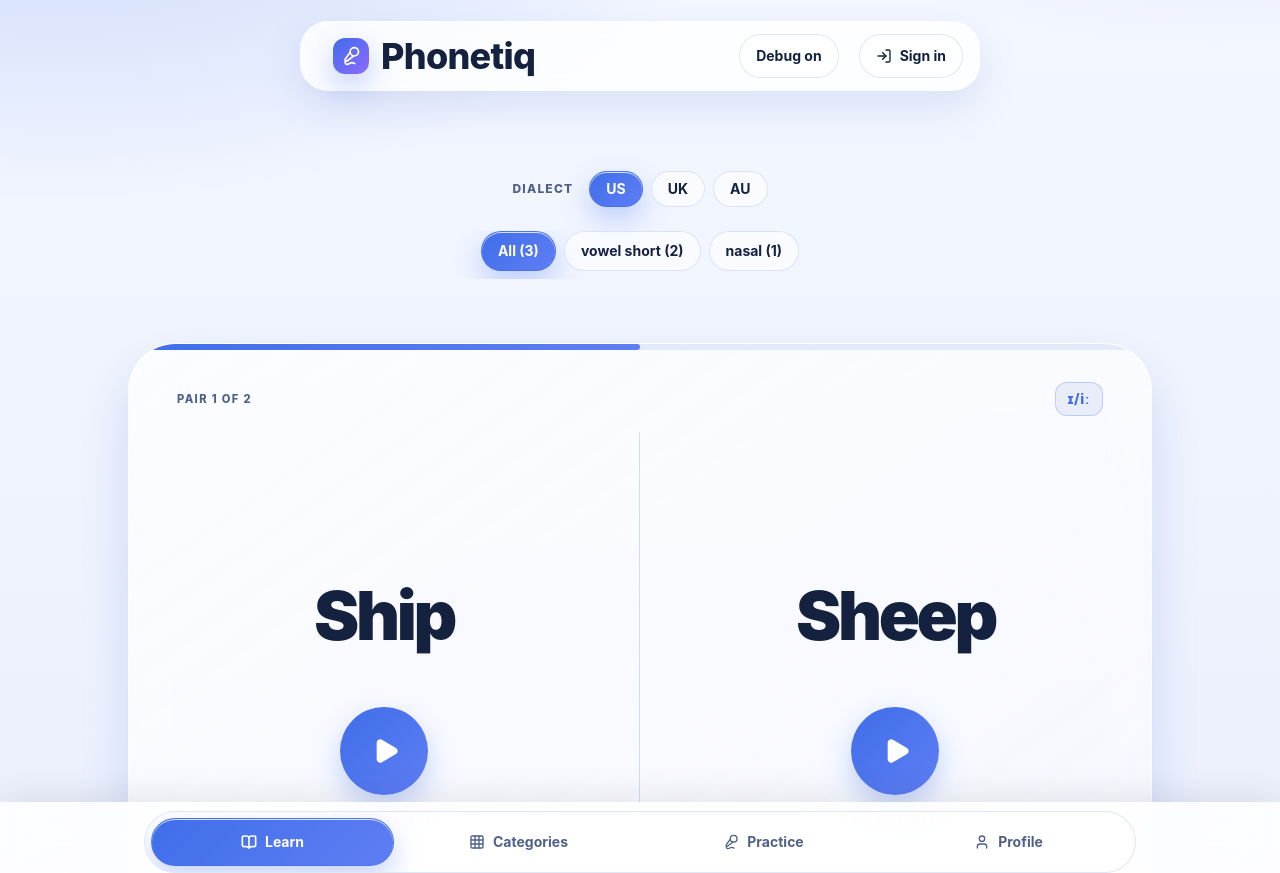
Test: App › shows Learn stage structure by default and swaps it out in Practice mode
Expected: the text "Pair 1 of 2" is shown, [177, 391, 252, 407]
Click the button "Practice": (764, 842) [643, 818, 884, 866]
(page scrolled)
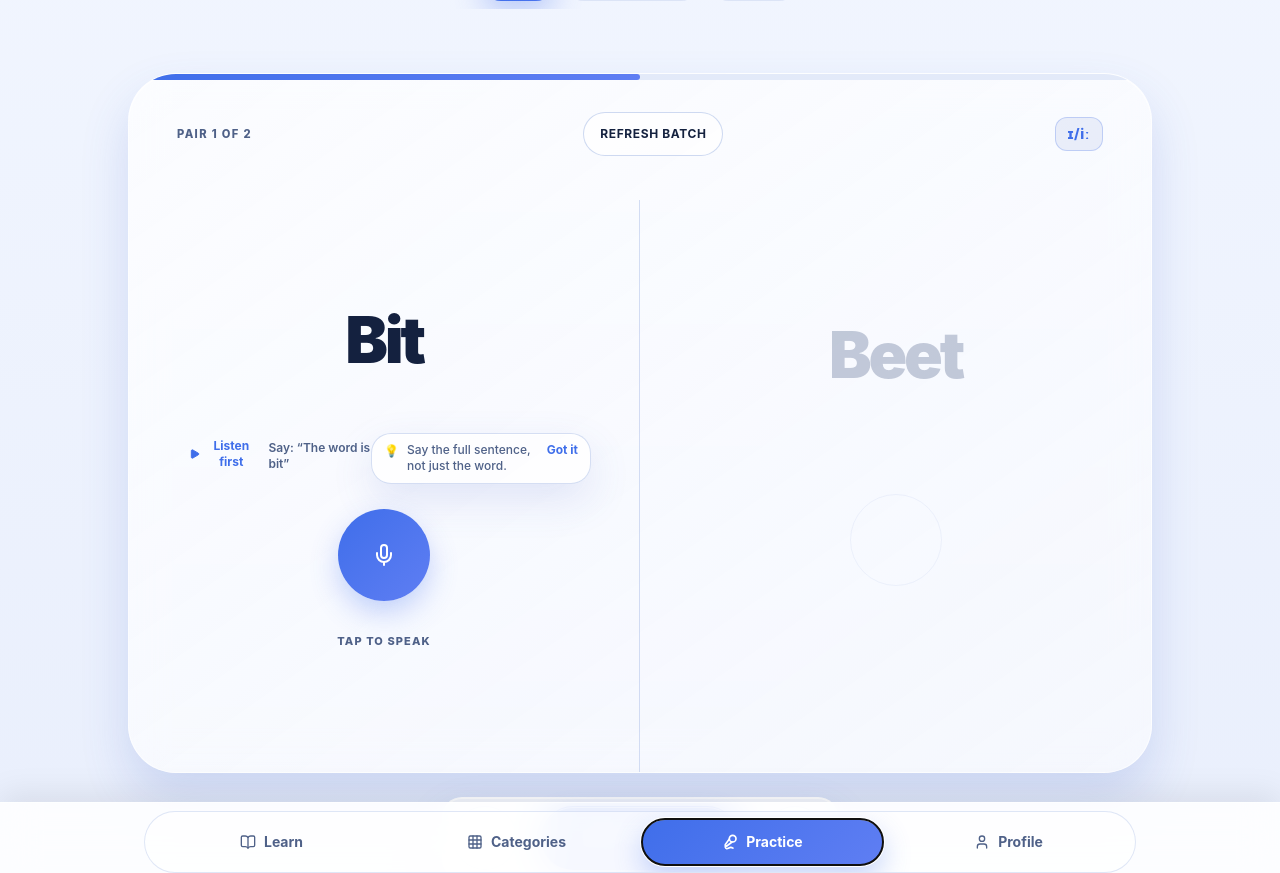
Expected: the element with test id "practice-stage" is shown
